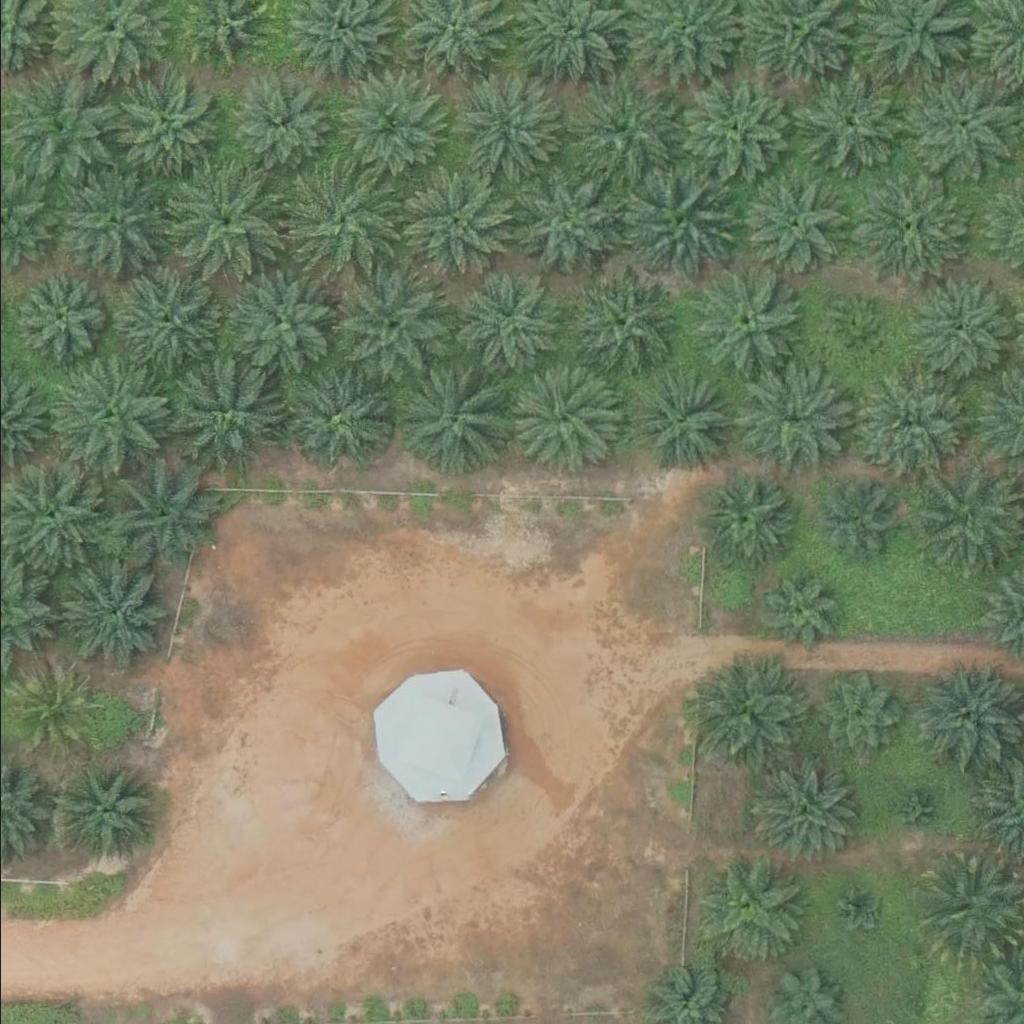Kelapa_Sawit: (854, 368, 968, 481), (565, 73, 679, 186), (450, 74, 564, 187), (54, 562, 168, 675), (103, 460, 217, 573), (906, 661, 1019, 774), (332, 70, 445, 183), (688, 266, 801, 379), (566, 263, 679, 376), (731, 362, 844, 475), (627, 366, 740, 479), (504, 366, 617, 479), (392, 361, 505, 474), (693, 661, 806, 774), (165, 165, 278, 278), (60, 164, 173, 277), (111, 67, 224, 180), (675, 75, 789, 187), (510, 167, 624, 279), (393, 166, 507, 278), (332, 269, 446, 381), (692, 853, 806, 965), (164, 363, 278, 475), (850, 172, 963, 284), (903, 75, 1016, 187), (794, 69, 907, 181), (618, 167, 731, 279), (285, 161, 398, 273), (743, 754, 856, 866), (51, 360, 164, 472), (106, 264, 219, 376), (4, 73, 117, 185), (221, 266, 334, 378), (741, 177, 842, 277), (52, 759, 153, 859), (910, 282, 1010, 382), (459, 272, 559, 372), (286, 371, 386, 471), (699, 477, 788, 565), (2, 665, 90, 753), (810, 673, 898, 760), (12, 273, 100, 360), (236, 82, 324, 169), (812, 486, 888, 561), (762, 572, 837, 647), (822, 303, 885, 365), (889, 788, 940, 838), (833, 882, 884, 932)
